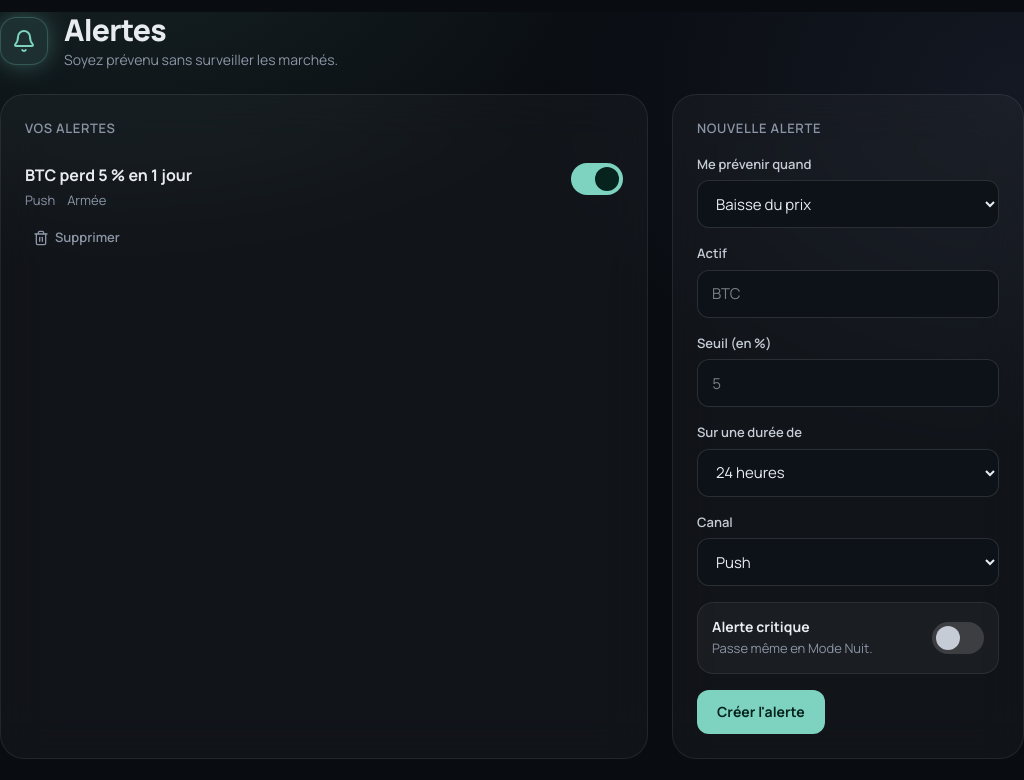
Test: AlertsPage : activer, mettre en pause, supprimer › l'interrupteur met l'alerte en pause tout de suite et l'API en est informée
Expected: the heading "Vos alertes" is shown, left=25, top=119, right=116, bottom=137
Click the switch named "BTC perd 5 % en 1 jour" in the row of "BTC perd 5 % en 1 jour". click: [597, 178]
box: left=571, top=162, right=623, bottom=194
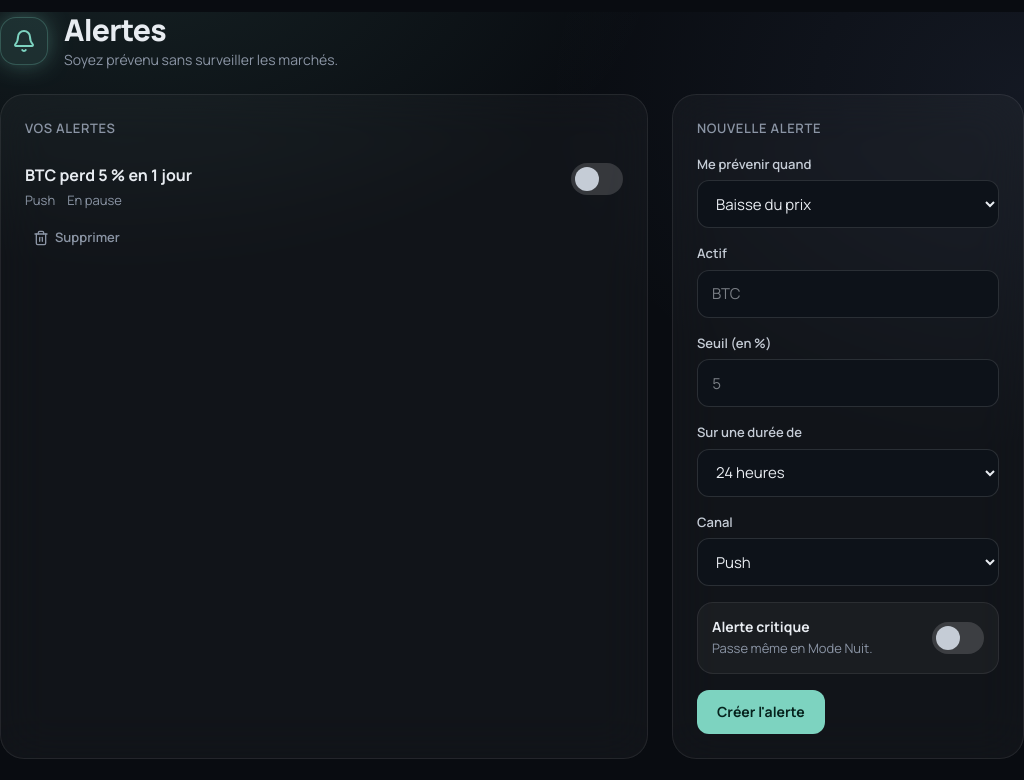
Now the text "En pause" is shown, box left=67, top=190, right=122, bottom=210
